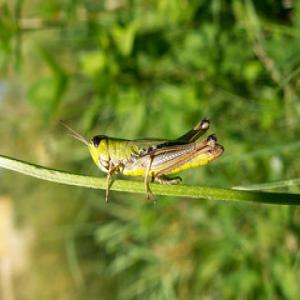locust: (54, 104, 236, 200)
